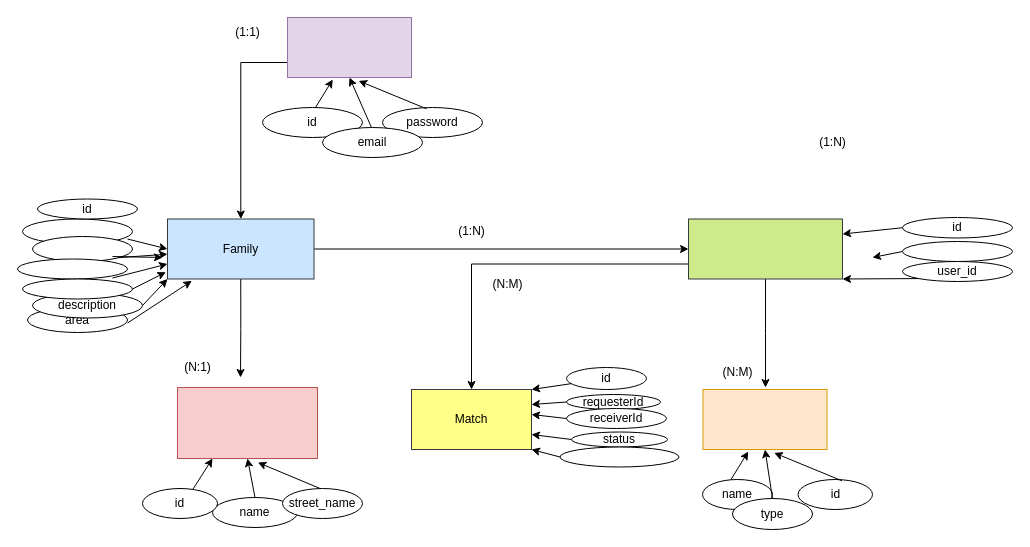
Some shapes in this 1030 by 547 pixel diagram are drawn without their labels. Each missing label, with the centre of its shape:
Child: the point at 765,248
createdAt, updatedAt: the point at 619,456
family_name: the point at 77,231
gender: the point at 957,251
Interest: the point at 764,419
neighborhood: the point at 247,422
neighborhood_id: the point at 72,268
representative_name: the point at 82,249
url_profile_picture: the point at 77,288
User: the point at 349,47
